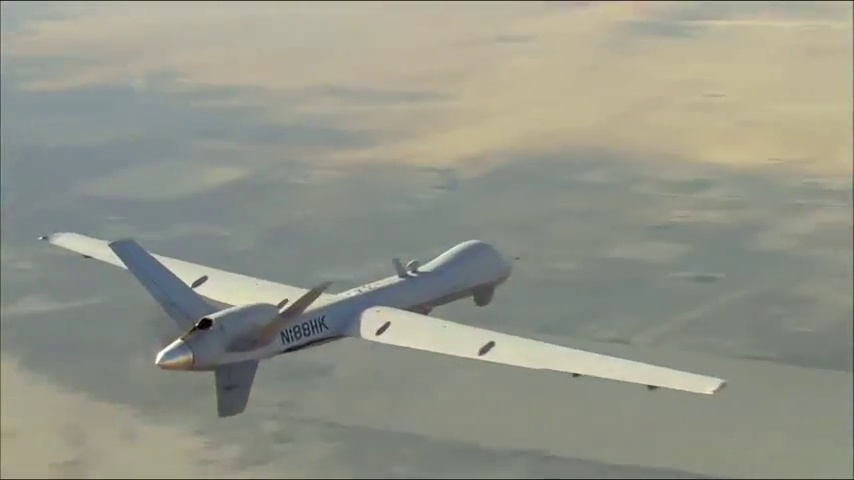military drone: (36, 230, 728, 416)
